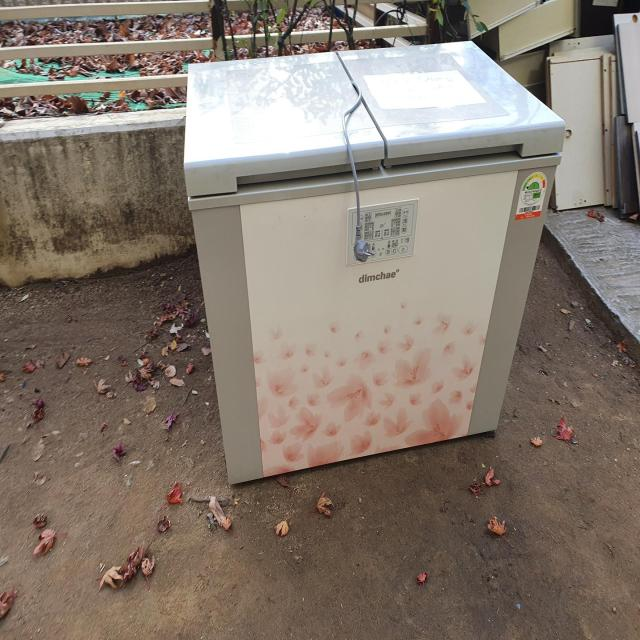refrigerator: (180, 38, 567, 490)
